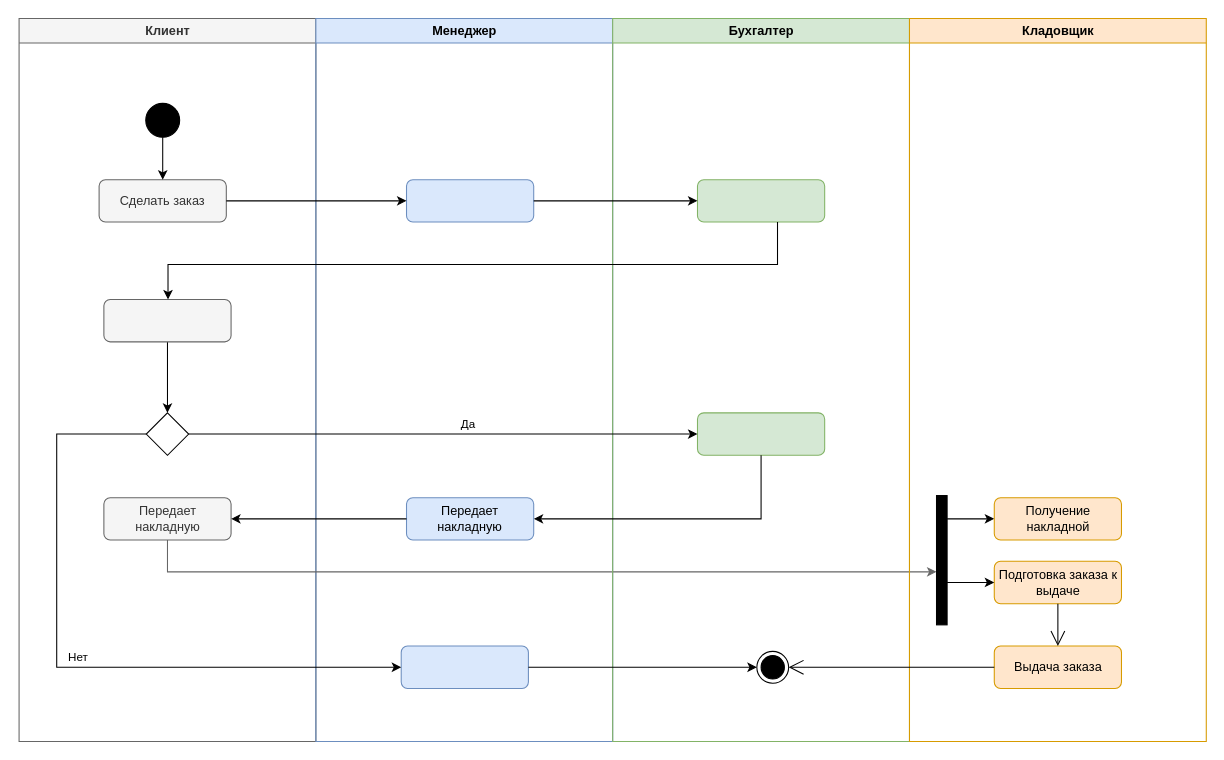
Some shapes in this 1224 by 760 pixel diagram are drawn without their labels. Each missing label, with the centre of its shape:
"Оплата счета" belongs at point (167, 320).
"Отмена заказа" belongs at point (464, 666).
"Оформление накладной" belongs at point (760, 433).
"Оформляет счет" belongs at point (760, 200).
"Принять заказ" belongs at point (469, 200).
